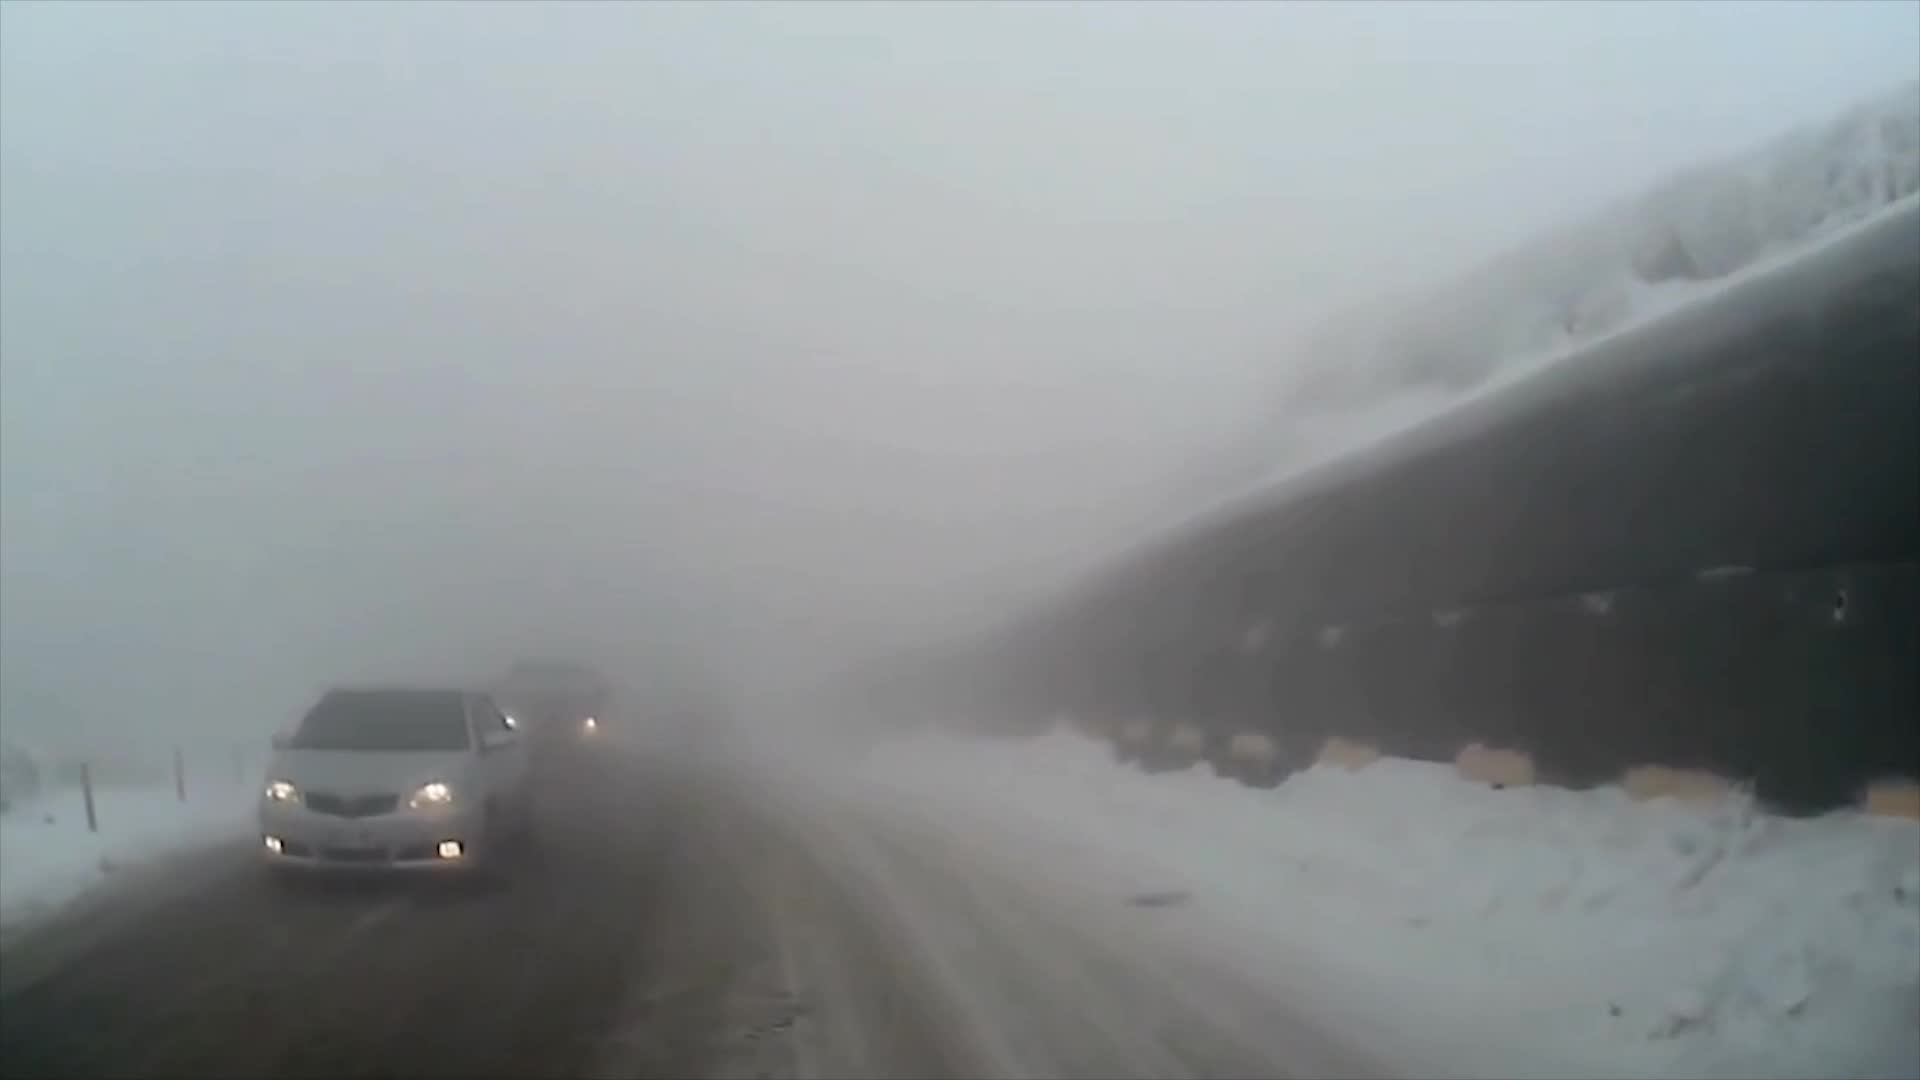vehicle: (251, 676, 534, 894), (488, 655, 608, 774)
